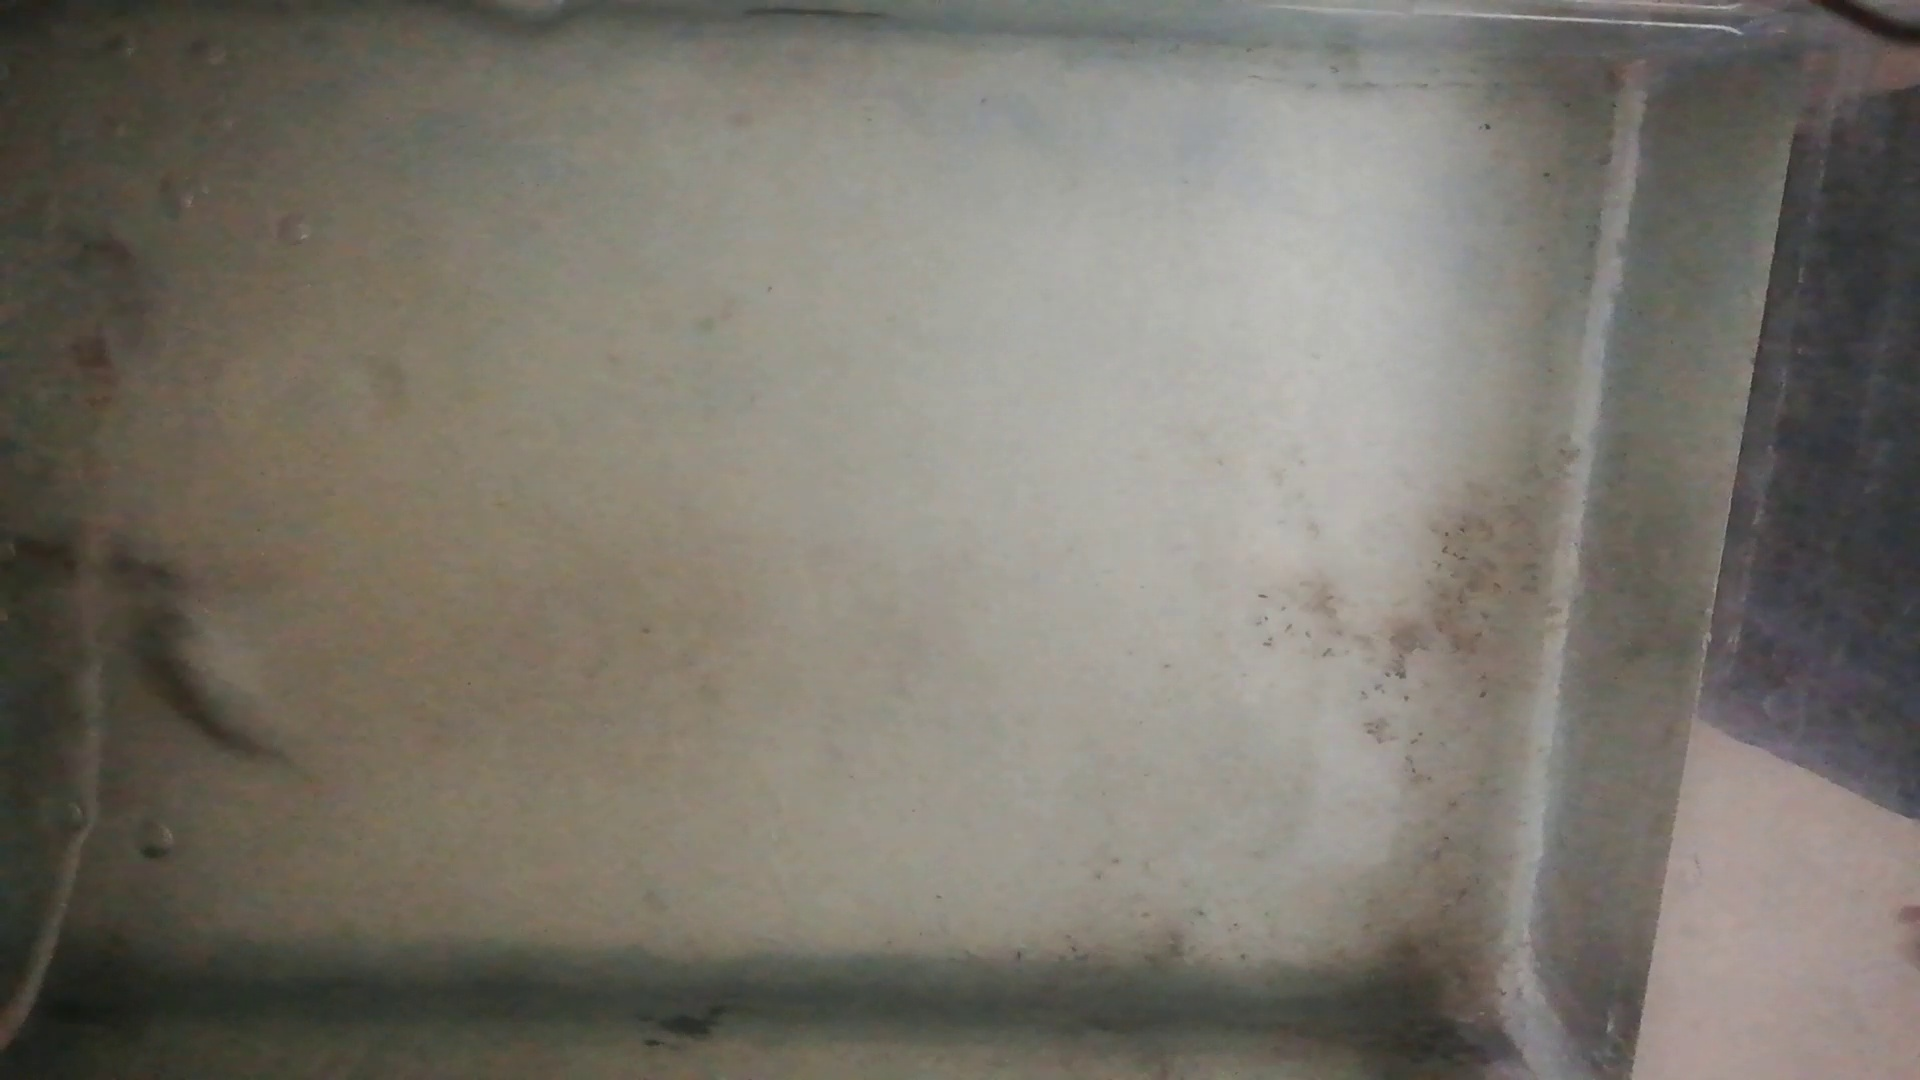fish: (137, 604, 272, 753), (4, 530, 171, 576)
